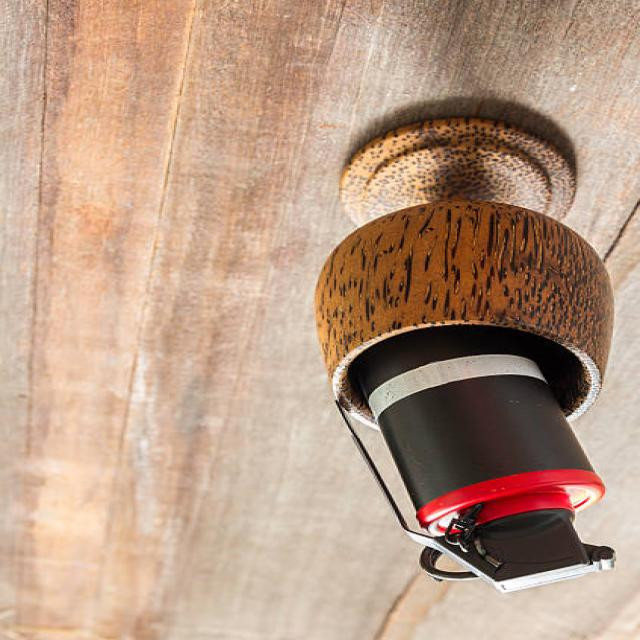grenade: (338, 332, 624, 596)
